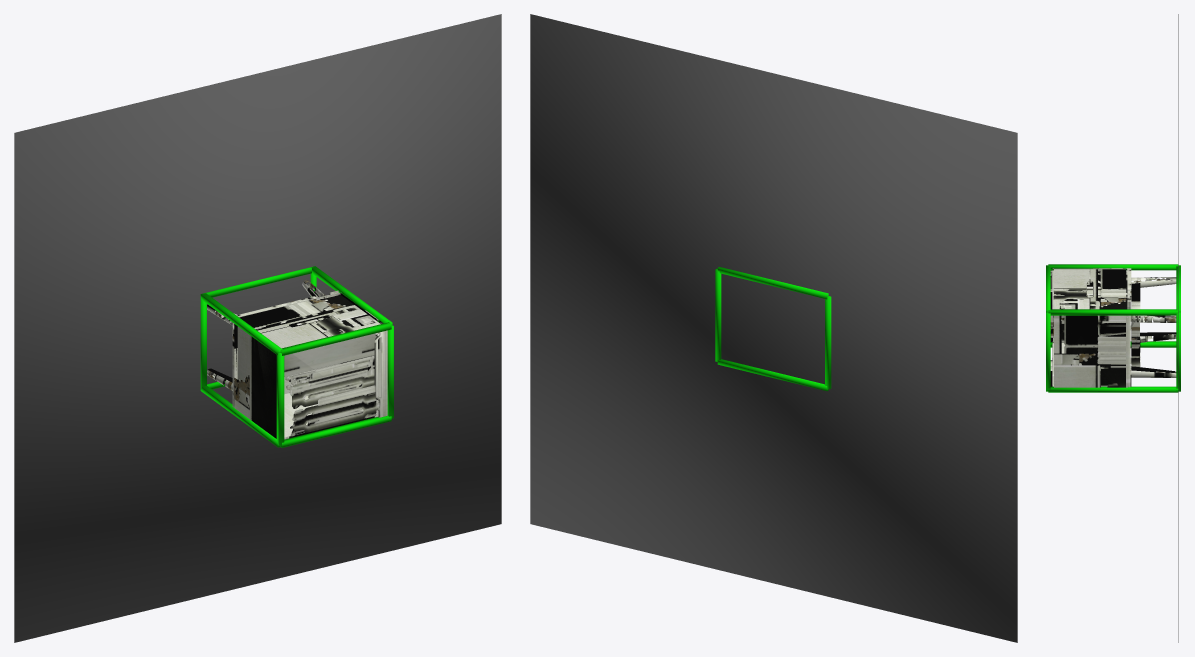
3 views of the same model, side by side, from view 1: azimuth 30°, elevation 25°; view 2: azimuth 150°, elevation 25°; view 3: azimuth 270°, elevation 25° (orthographic). The views are drawn at different scales.
Bounding box in the file's own units: 2 × 2 × 0.5702.
